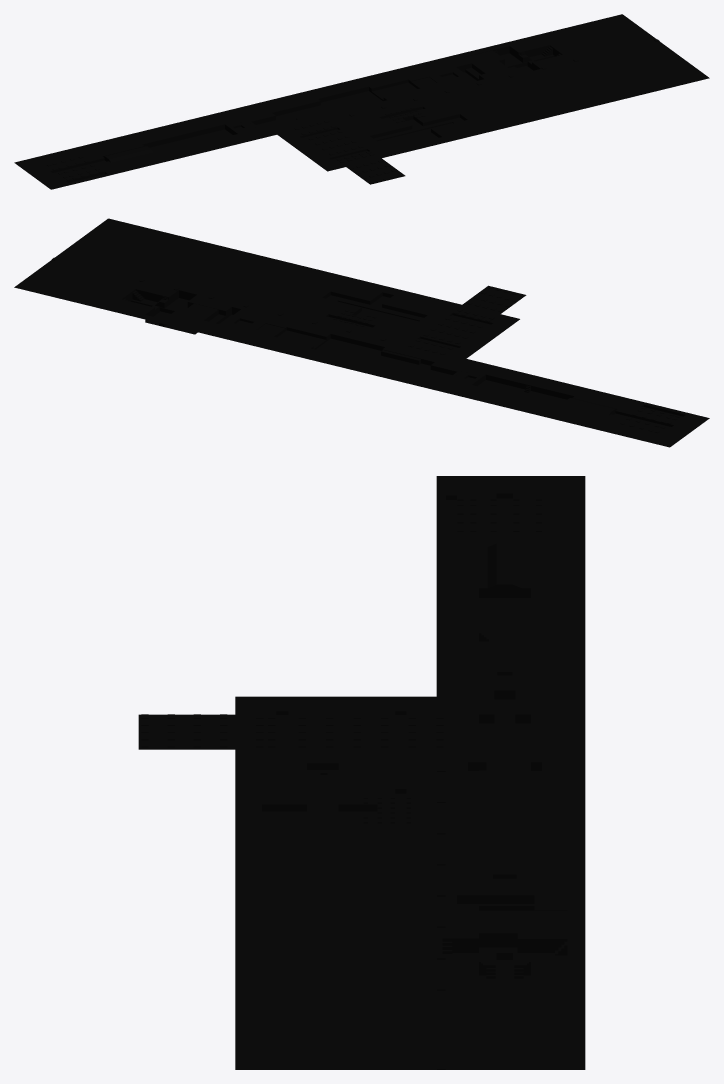
Rendered from SM_MERGED_BP_C_GY_Floor_C_1.glb.
3 views of the same model, one above another, from view 1: azimuth 30°, elevation 25°; view 2: azimuth 150°, elevation 25°; view 3: azimuth 270°, elevation 25° (orthographic). The views are drawn at different scales.
Parts seen in each view (by area): view 1: SM_MERGED_BP_C_GY_Floor_C_1; view 2: SM_MERGED_BP_C_GY_Floor_C_1; view 3: SM_MERGED_BP_C_GY_Floor_C_1.
Boxes of the visible parts, x1,y1,x2,y2 form: SM_MERGED_BP_C_GY_Floor_C_1: (14,14,709,189); SM_MERGED_BP_C_GY_Floor_C_1: (14,218,709,447); SM_MERGED_BP_C_GY_Floor_C_1: (138,476,585,1069).
Size of the model in its own units: 139 by 2.7 by 44.06.
Materials: 1 (1 with a texture image).
